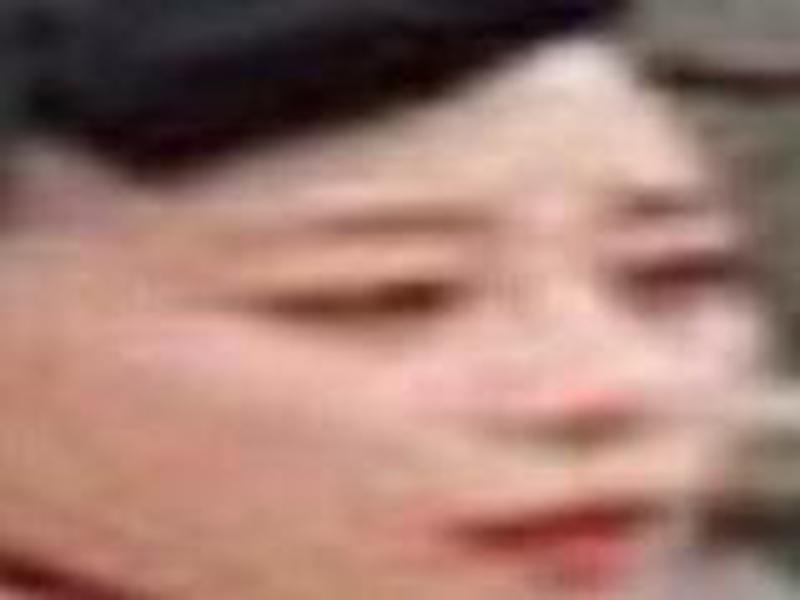without_mask: (17, 21, 757, 600)
